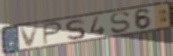4: (90, 15, 108, 37)
6: (133, 7, 154, 31)
P: (43, 21, 64, 46)
S: (64, 18, 87, 42), (109, 11, 132, 35)
V: (18, 23, 42, 49)
